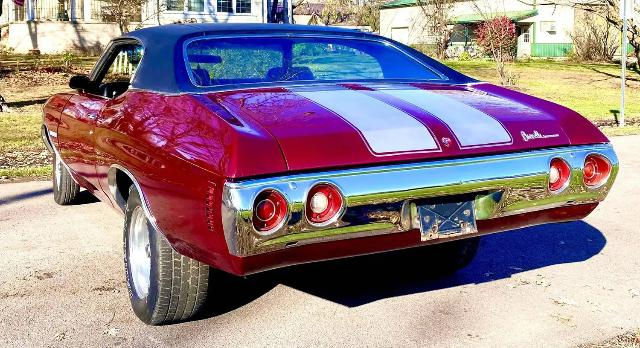chevelle-1972: (39, 23, 619, 325)
